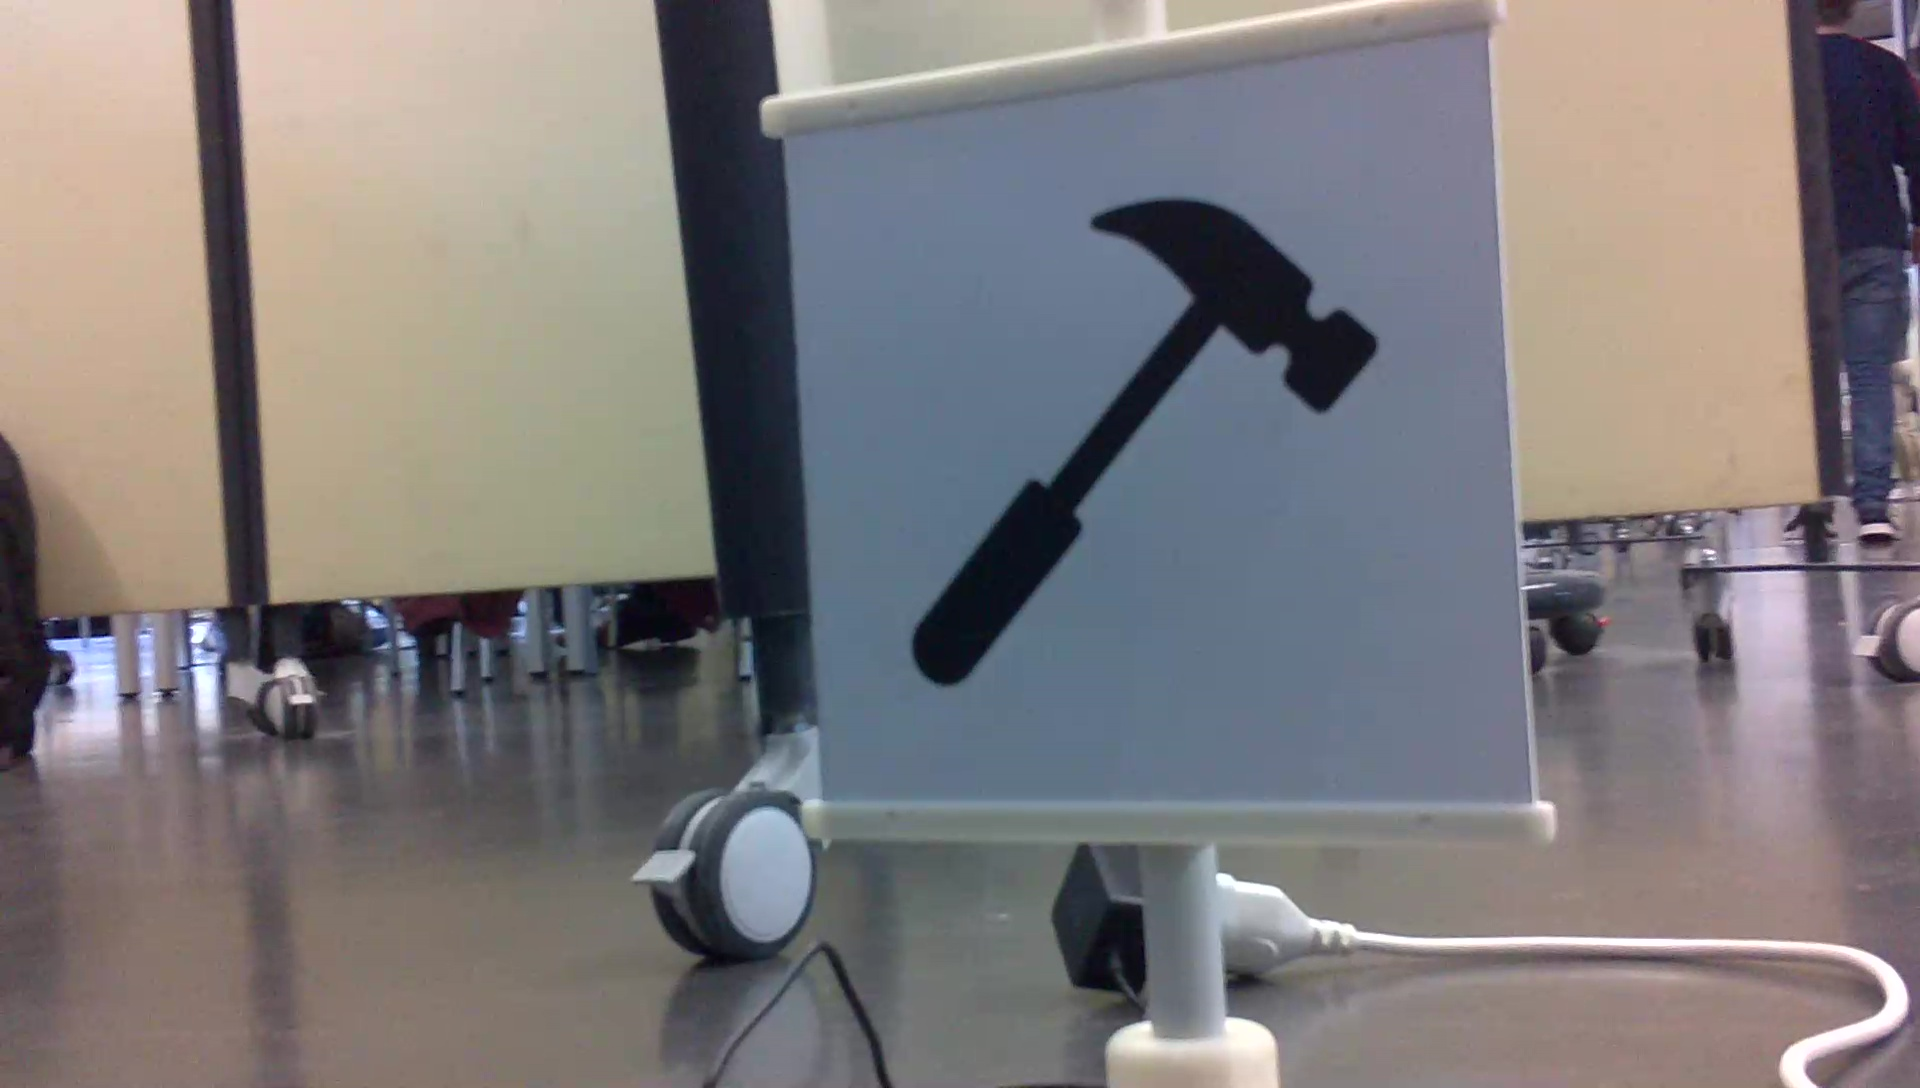hammer: (899, 187, 1387, 695)
